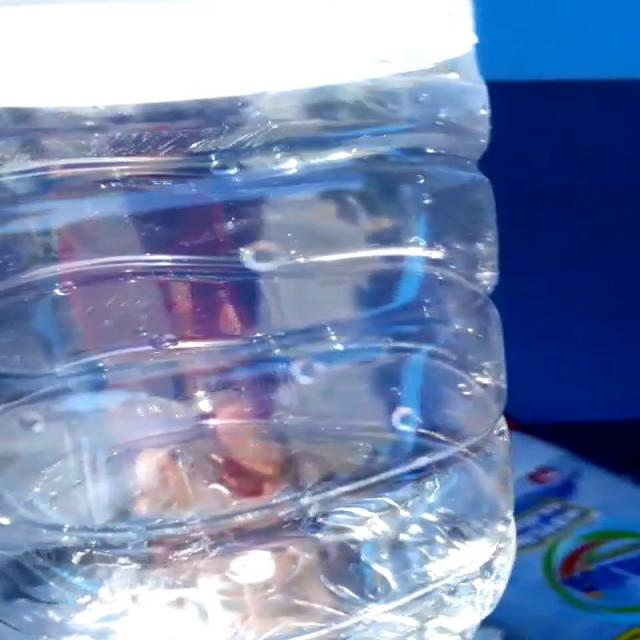plastic: (0, 0, 515, 640)
